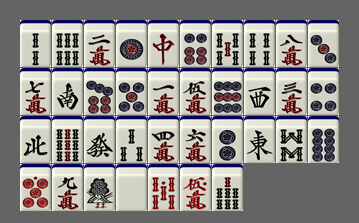0m: (180, 164, 211, 211)
0p: (20, 164, 51, 211)
0s: (148, 164, 179, 211)
1m: (148, 68, 179, 115)
1p: (116, 20, 147, 67)
1s: (84, 164, 115, 211)
1z: (244, 116, 275, 163)
2m: (84, 20, 115, 67)
2p: (212, 116, 243, 163)
2s: (20, 20, 51, 67)
2z: (52, 68, 83, 115)
3m: (276, 68, 307, 115)
3p: (308, 20, 339, 67)
3s: (116, 116, 147, 163)
3z: (244, 68, 275, 115)
4m: (148, 116, 179, 163)
4p: (308, 68, 339, 115)
4s: (244, 20, 275, 67)
4z: (20, 116, 51, 163)
5m: (180, 68, 211, 115)
5p: (116, 68, 147, 115)
5s: (212, 20, 243, 67)
5z: (116, 164, 147, 211)
6m: (180, 116, 211, 163)
6p: (180, 20, 211, 67)
6s: (52, 20, 83, 67)
6z: (84, 116, 115, 163)
7m: (20, 68, 51, 115)
7p: (84, 68, 115, 115)
7s: (212, 164, 243, 211)
7z: (148, 20, 179, 67)
8m: (276, 20, 307, 67)
8p: (308, 116, 339, 163)
8s: (276, 116, 307, 163)
9m: (52, 164, 83, 211)
9p: (212, 68, 243, 115)
9s: (52, 116, 83, 163)
